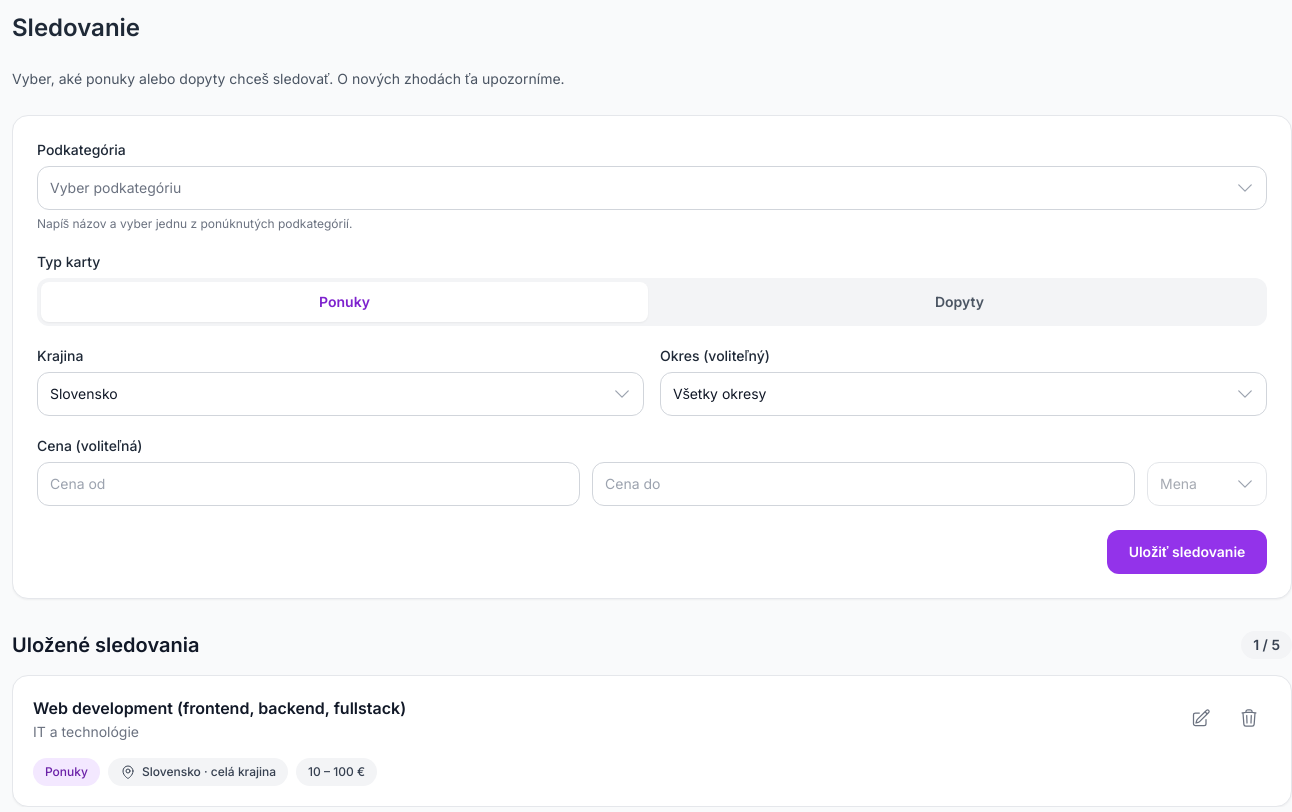
Test: zero bounds through all save flows › desktop create saves an unpriced watch and resets the controls
Type "Web development (frontend, backend, fullstack)" into the dropdown labelled "Podkategória" at (652, 188), box [37,166,1267,210]
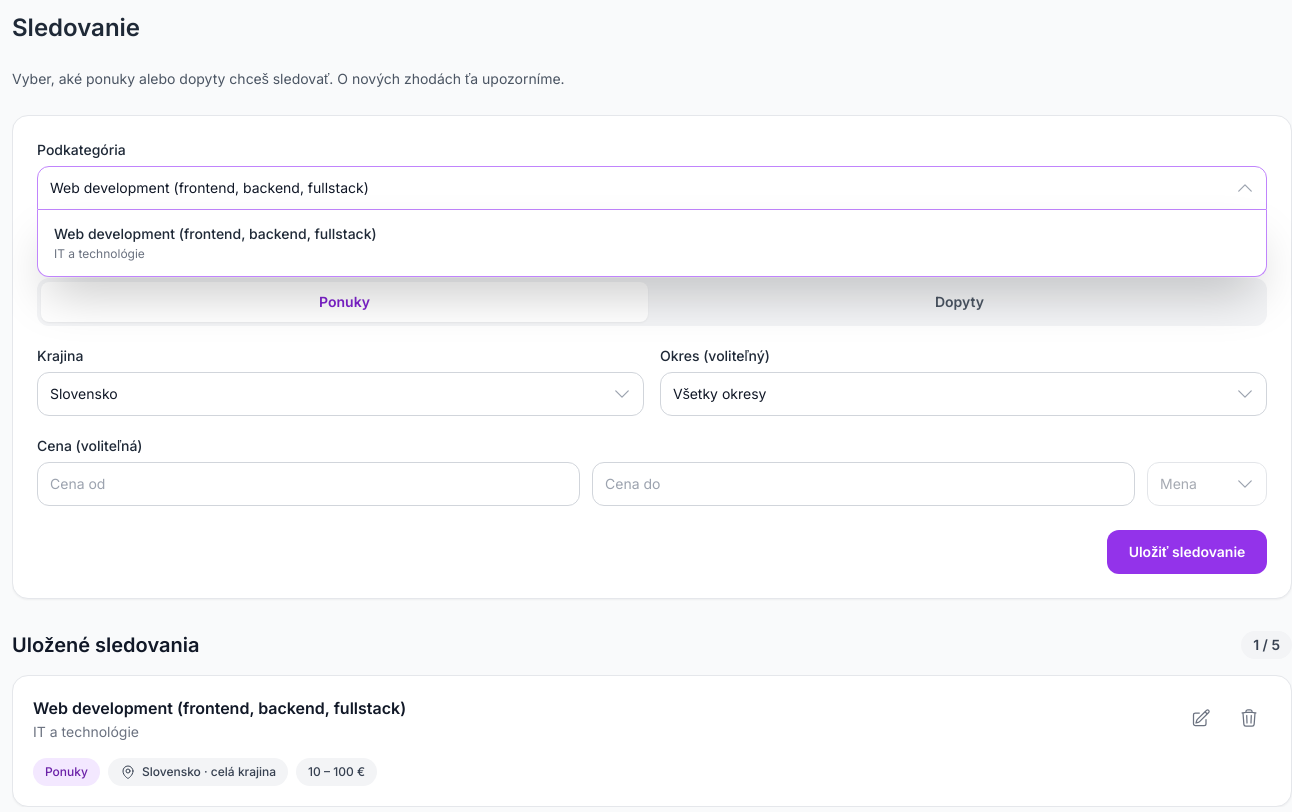
Click the option "Web development (frontend, backend, fullstack)" at (215, 233), box [42,214,1262,272]
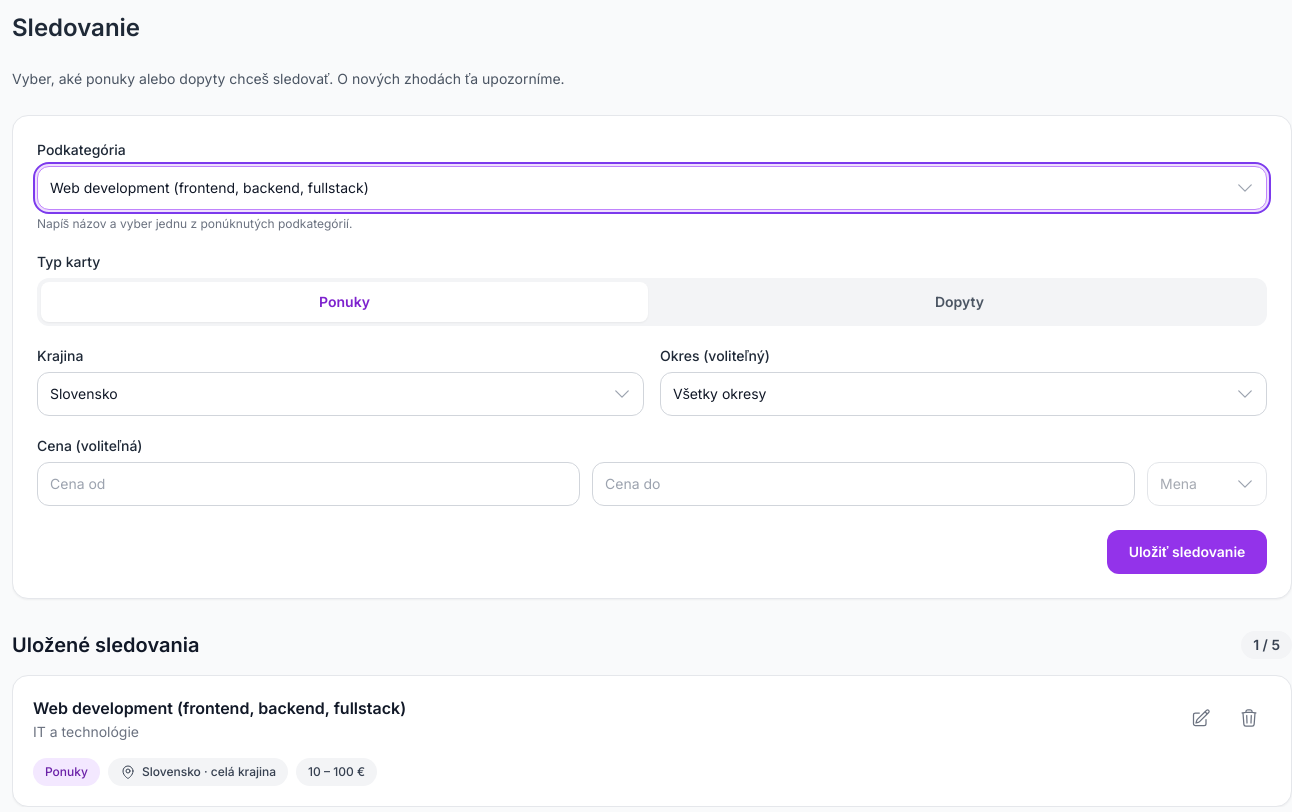
Type "0" into the field labelled "Cena od" at (308, 484), box [37,462,580,506]
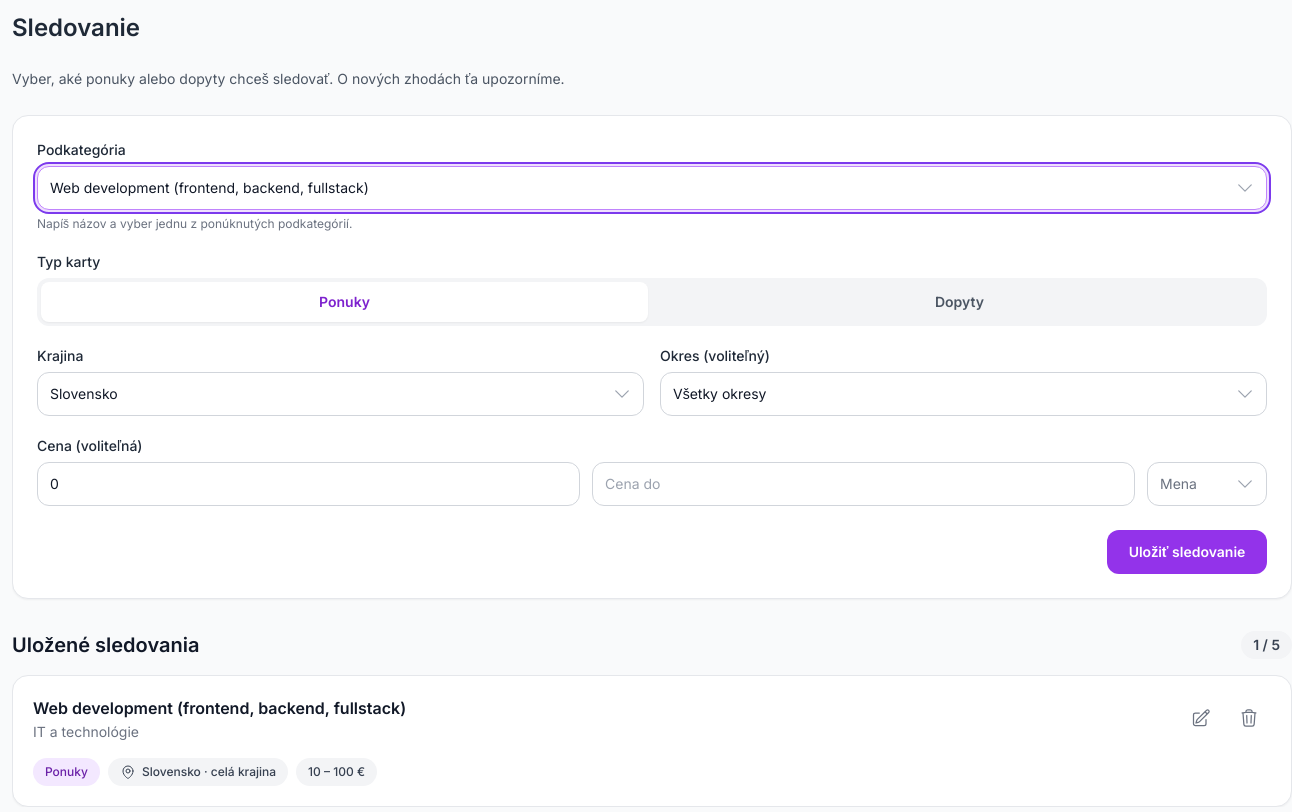
Type "0,00" into the field labelled "Cena do" at (864, 484), box [592,462,1135,506]
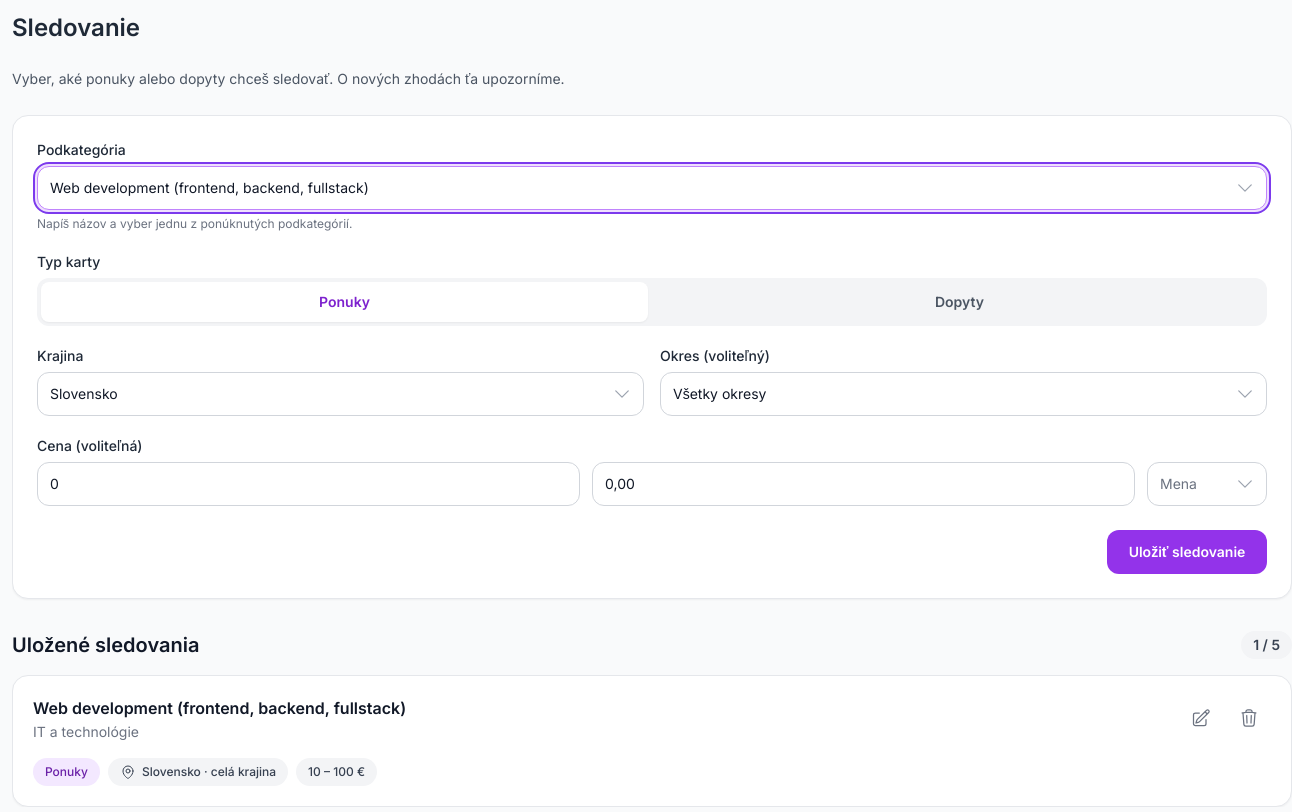
Click the button "Uložiť sledovanie" at (1187, 552), box [1107,530,1267,574]
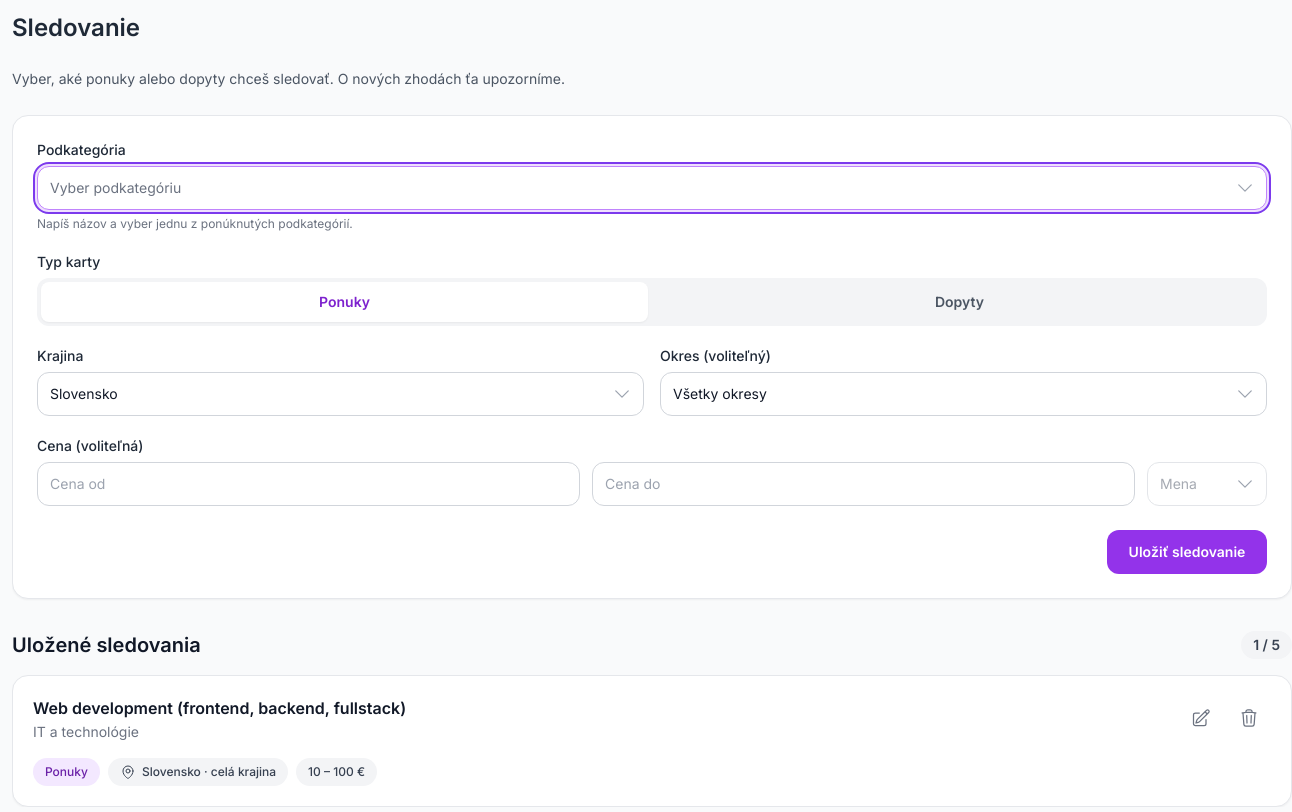
Result: the field labelled "Cena od" is empty at [37,462,580,506]
Result: the dropdown labelled "Mena" is disabled at [1147,462,1267,506]
